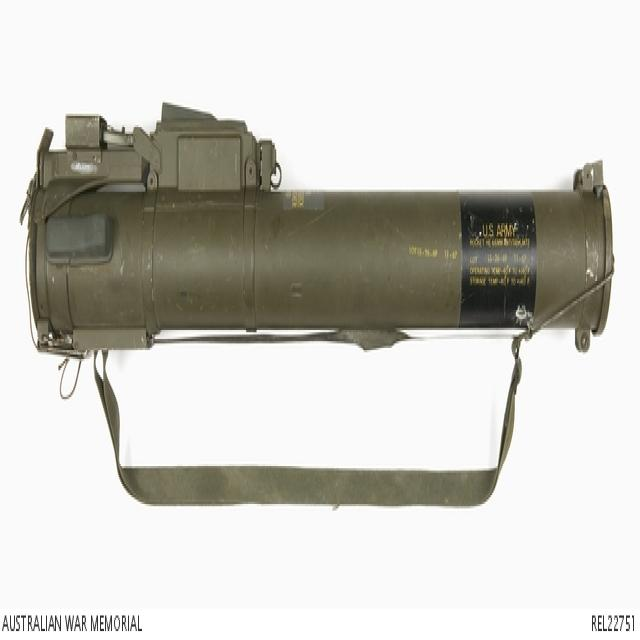bazooka: (18, 84, 618, 398)
